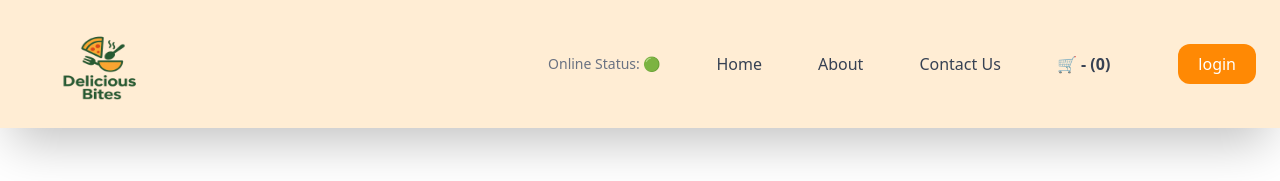
Test: Checking Header Component › Should Change Login button to Logout
The image size is (1280, 181).
Click the button "login" at (1217, 64), box x1=1178 y1=44 x2=1256 y2=84
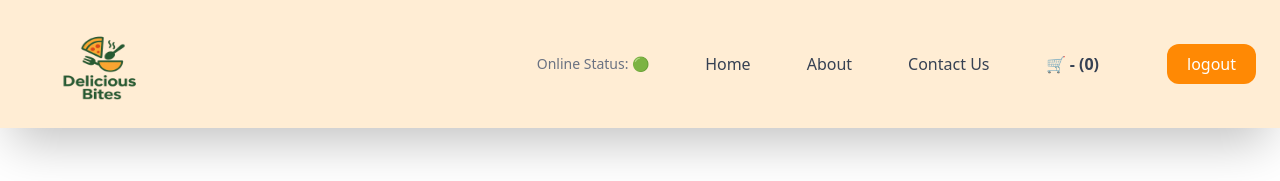
Now the button "logout" is shown, box x1=1167 y1=44 x2=1256 y2=84
